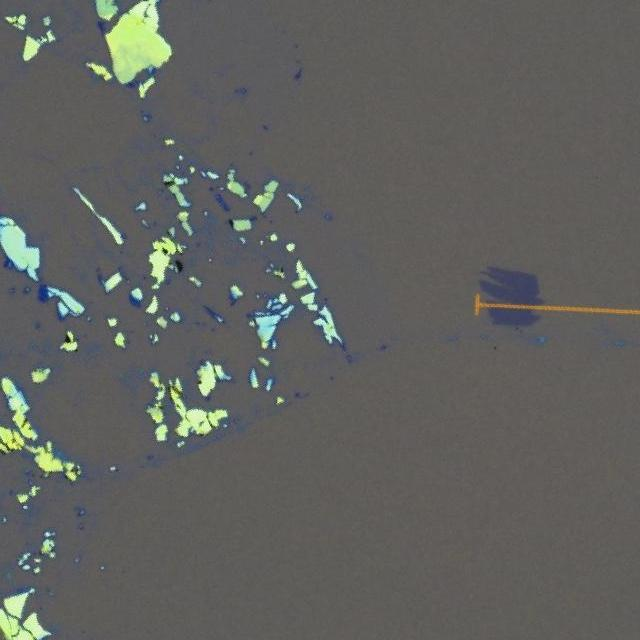monolayer-eWW4: (475, 259, 543, 329)
